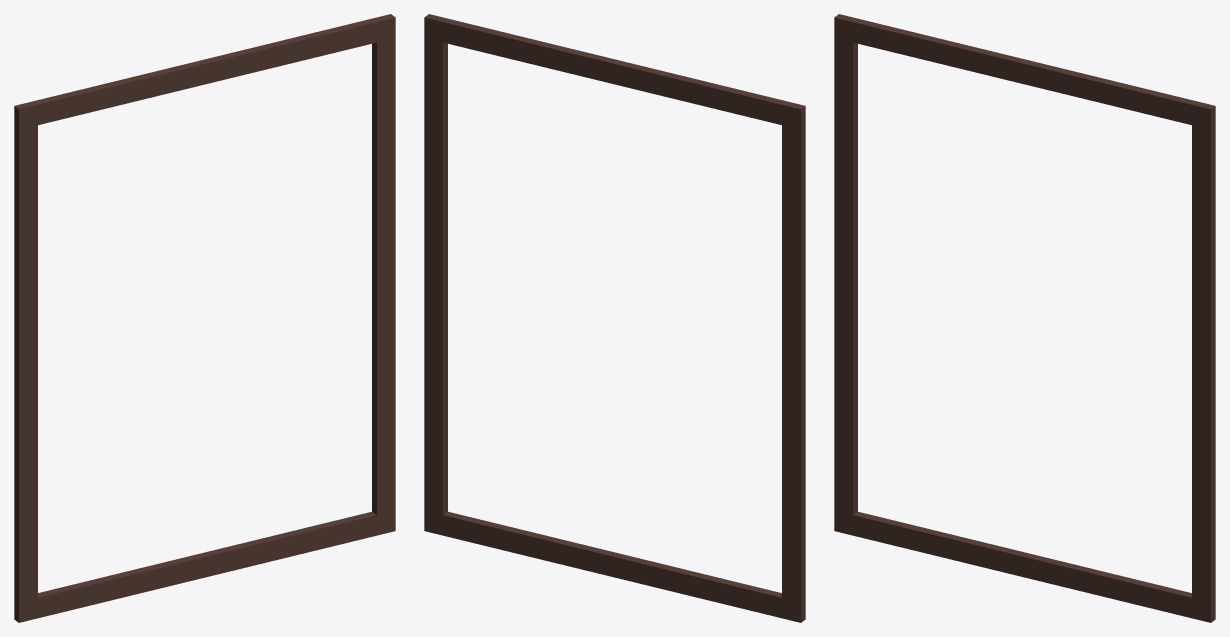
Rendered from FrameVert.obj.
The picture shows the model from 3 angles, left to right: view 1: azimuth 30°, elevation 25°; view 2: azimuth 150°, elevation 25°; view 3: azimuth 330°, elevation 25°; orthographic projection.
Parts seen in each view (by area): view 1: Cube; view 2: Cube; view 3: Cube.
Part boxes in pixels (x1,y1,x2,y2): Cube: (14, 14, 395, 622); Cube: (424, 14, 805, 622); Cube: (834, 14, 1215, 622).
Bounding box in the file's own units: 2 × 2.61 × 0.044.
